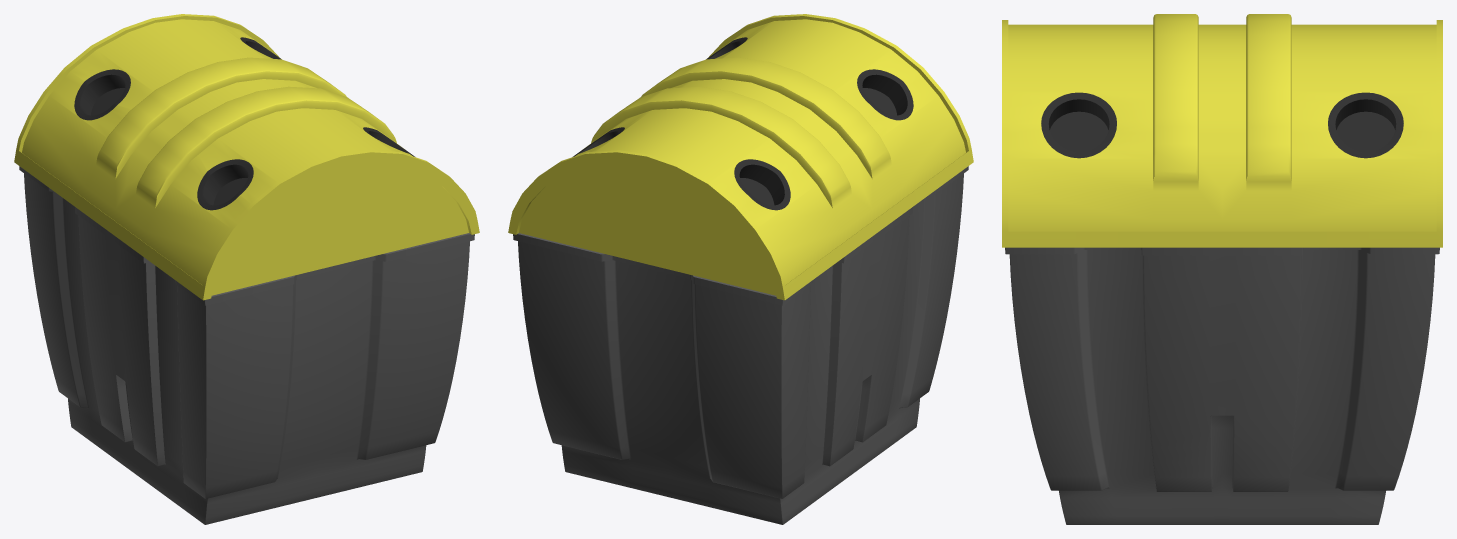
File: ContenedorPlastico.fbx
3 renders of one model, left to right at view 1: azimuth 30°, elevation 25°; view 2: azimuth 150°, elevation 25°; view 3: azimuth 270°, elevation 25°, orthographic. The views are drawn at different scales.
Parts seen in each view (by area): view 1: BaseContenedor; view 2: BaseContenedor; view 3: BaseContenedor.
Boxes of the visible parts, box(x1,y1,x2,y2) form: BaseContenedor: box(14, 14, 479, 524); BaseContenedor: box(508, 14, 973, 524); BaseContenedor: box(1002, 14, 1442, 524).
Size of the model in its own units: 440 by 557 by 520.
